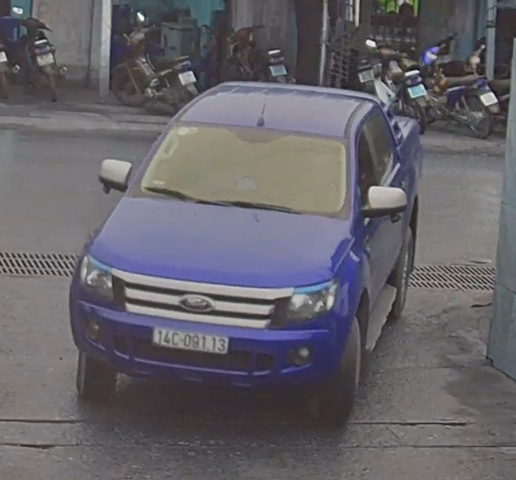vehicle plate: (149, 322, 232, 355)
